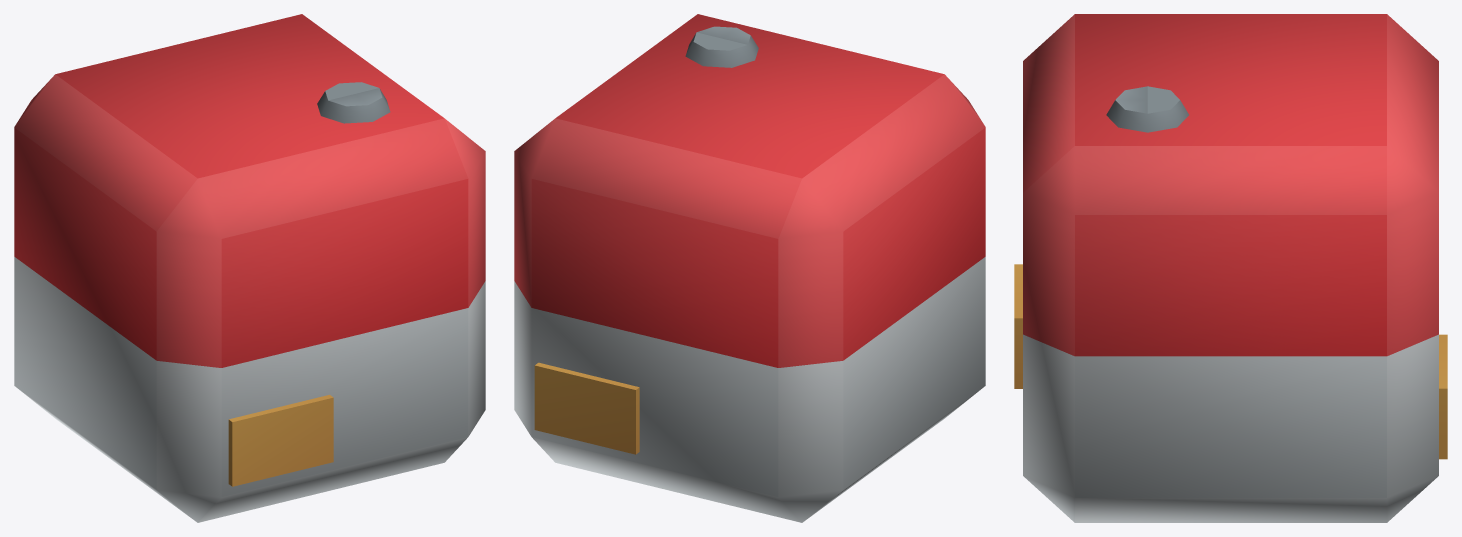
Rendered from cargo_A.obj.
3 renders of one model, left to right at view 1: azimuth 30°, elevation 25°; view 2: azimuth 150°, elevation 25°; view 3: azimuth 270°, elevation 25°, orthographic. The views are drawn at different scales.
Size of the model in its own units: 0.5 by 0.52 by 0.5205.
1 material, 1 textured.
